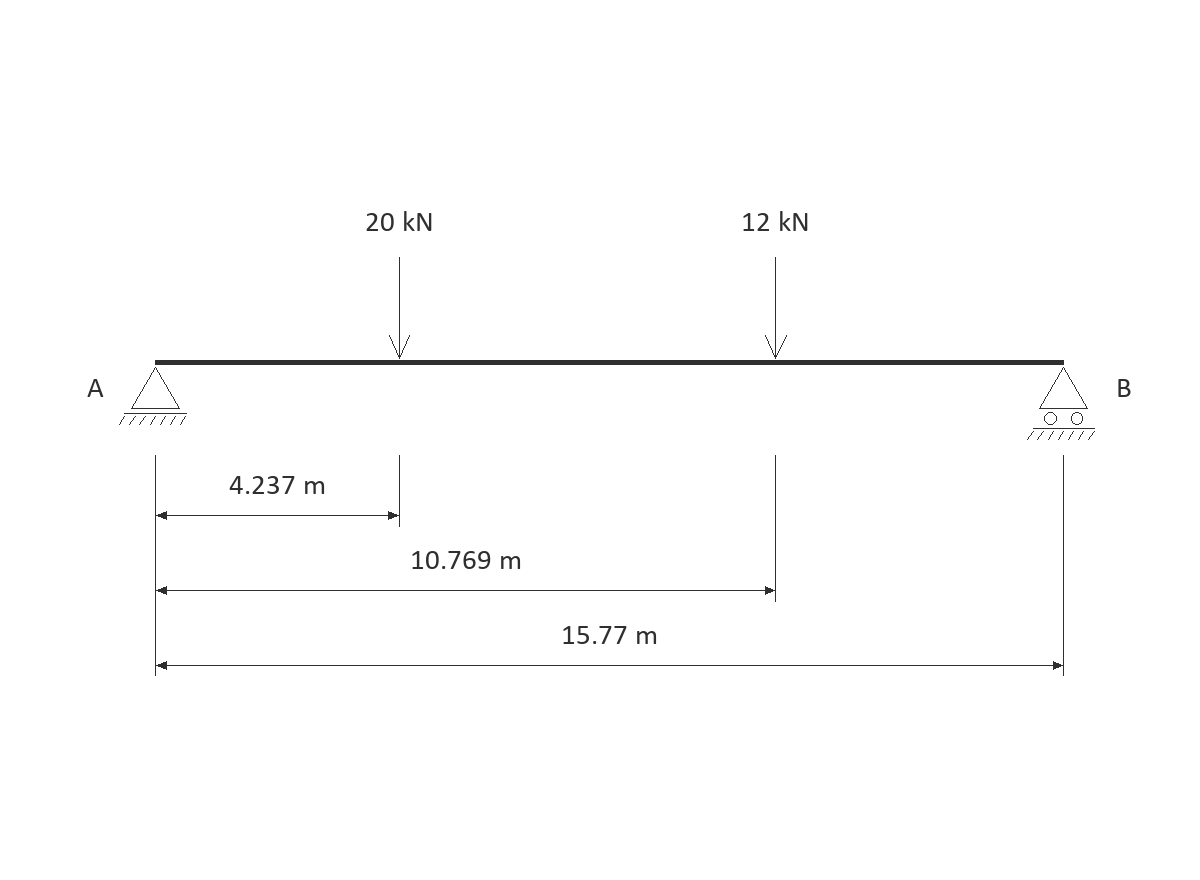pin_support: (119, 367, 187, 425)
point_load: (765, 257, 787, 359), (389, 257, 410, 359)
roller_support: (1027, 367, 1095, 440)
